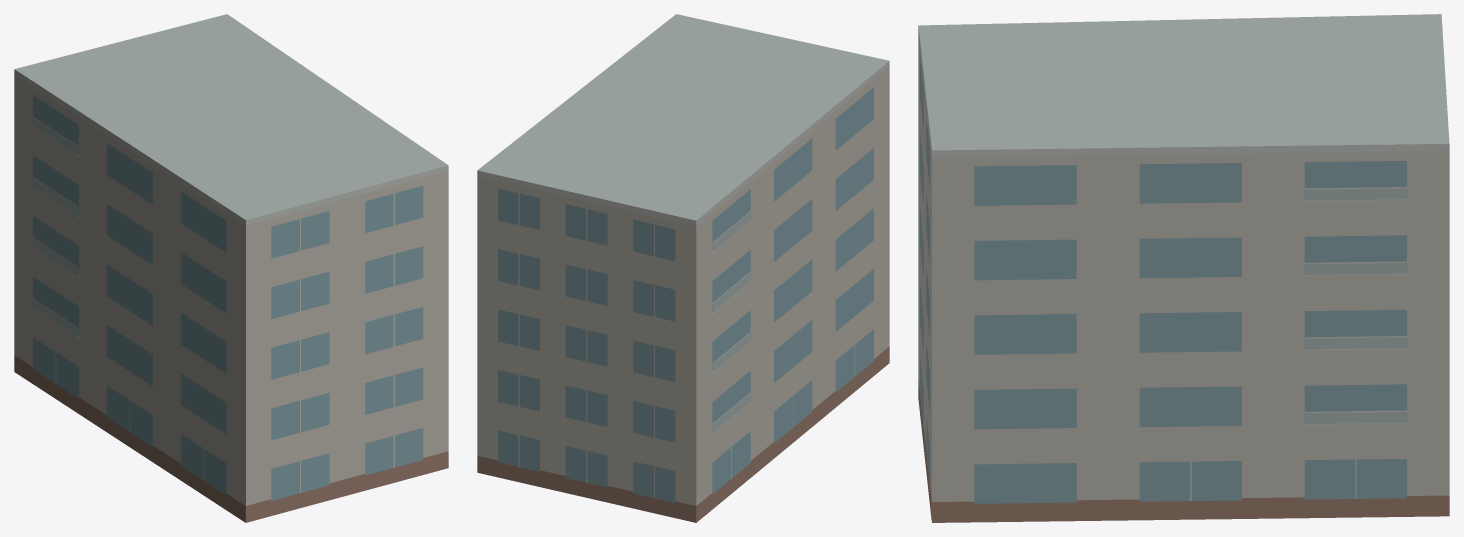
Rendered from survey-upis-32967814.glb.
3 renders of one model, left to right at view 1: azimuth 30°, elevation 25°; view 2: azimuth 150°, elevation 25°; view 3: azimuth 270°, elevation 25°, orthographic. The views are drawn at different scales.
Parts seen in each view (by area): view 1: survey-upis-32967814.tmp; view 2: survey-upis-32967814.tmp; view 3: survey-upis-32967814.tmp.
Part boxes in pixels (x1,y1,x2,y2): survey-upis-32967814.tmp: (14, 14, 448, 522); survey-upis-32967814.tmp: (477, 14, 889, 522); survey-upis-32967814.tmp: (918, 14, 1449, 522).
Bounding box in the file's own units: 10.3 × 13.1 × 16.94.
